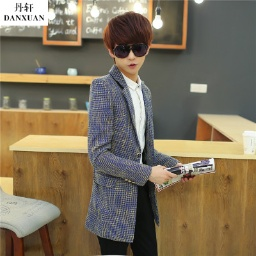face: (103, 12, 155, 76)
